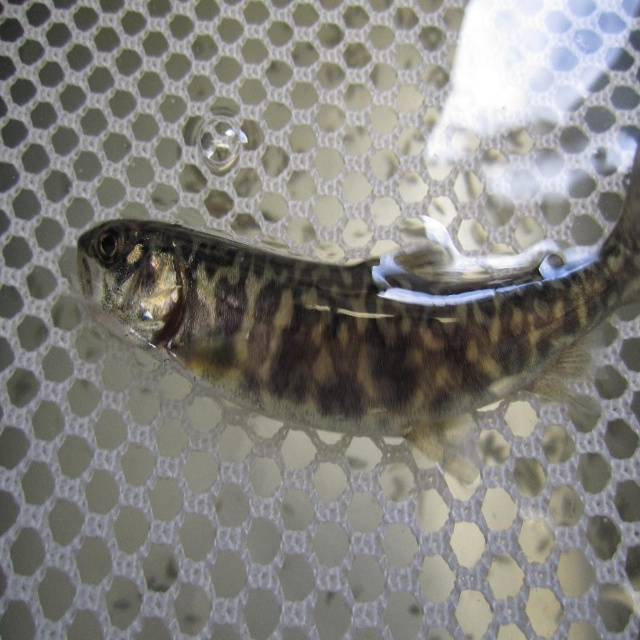Fish: (76, 134, 640, 435)
